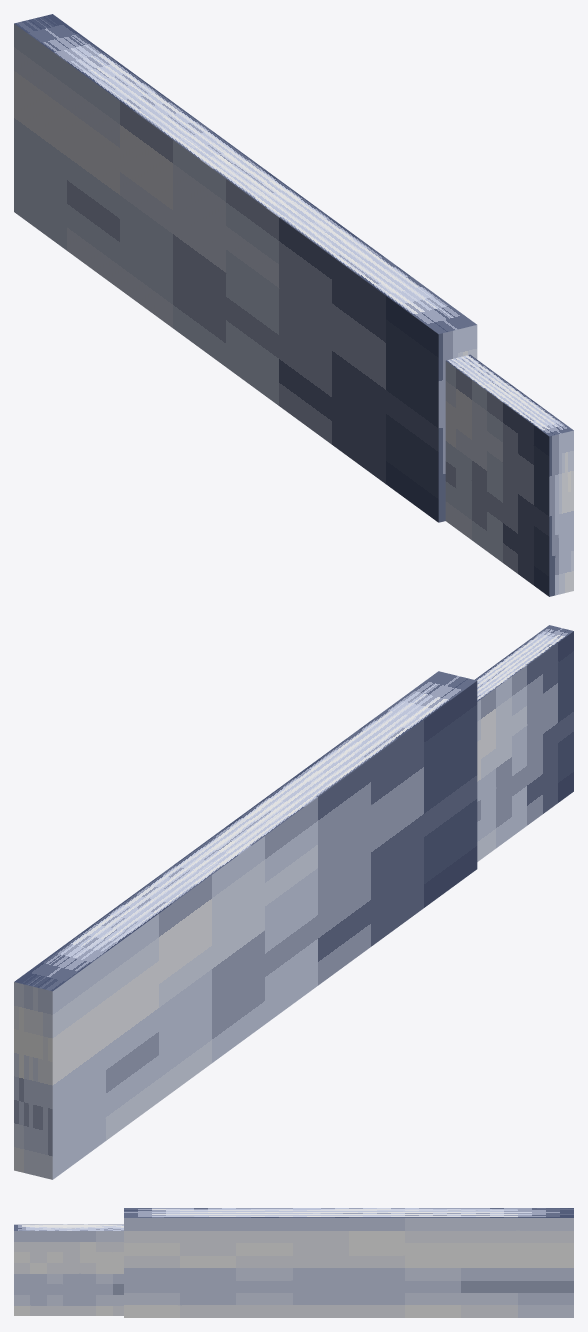
Rendered from subWorld2Cover.obj.
The picture shows the model from 3 angles, top to bottom: view 1: azimuth 30°, elevation 25°; view 2: azimuth 150°, elevation 25°; view 3: azimuth 270°, elevation 25°; orthographic projection. The views are drawn at different scales.
Visible parts, largest first — view 1: subWorld2Cover; view 2: subWorld2Cover; view 3: subWorld2Cover.
Boxes of the visible parts, x1,y1,x2,y2 form: subWorld2Cover: (14,14,573,596); subWorld2Cover: (14,625,573,1179); subWorld2Cover: (14,1208,573,1317).
Bounding box in the file's own units: 2.63 × 12.25 × 62.21.
